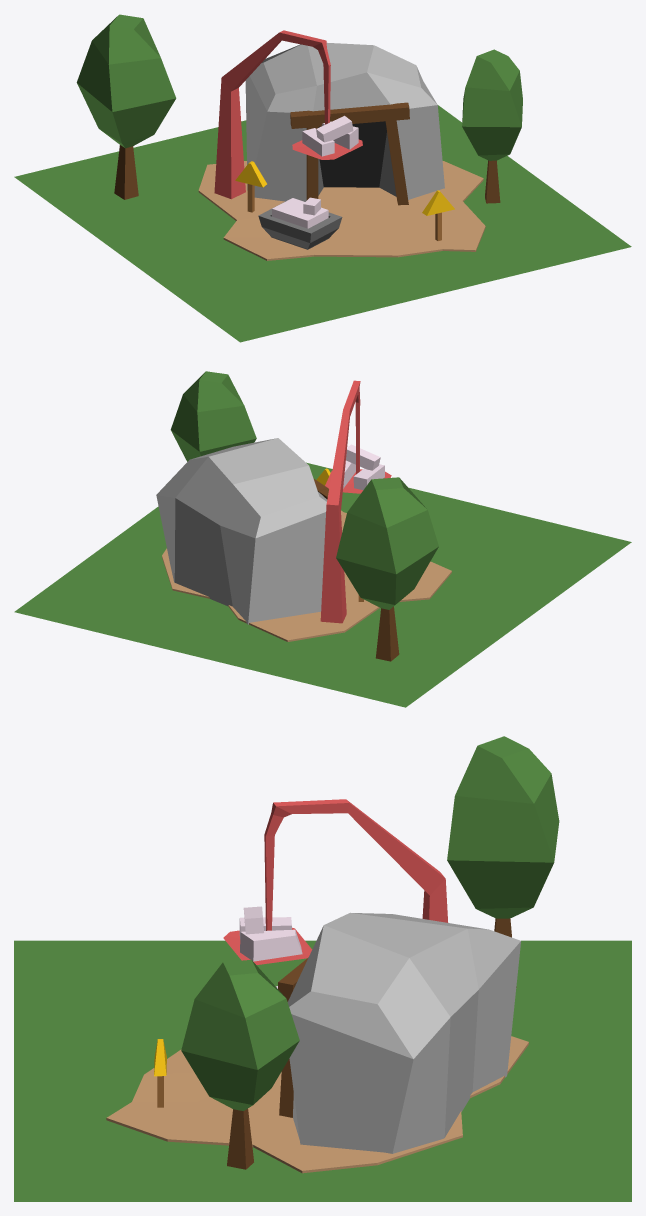
File: Quarry.fbx
3 views of the same model, one above another, from view 1: azimuth 30°, elevation 25°; view 2: azimuth 150°, elevation 25°; view 3: azimuth 270°, elevation 25° (orthographic). The views are drawn at different scales.
Visible parts, largest first — view 1: Body; view 2: Body; view 3: Body.
Part boxes in pixels (x1,y1,x2,y2): Body: [14, 14, 631, 342]; Body: [14, 371, 631, 707]; Body: [14, 736, 631, 1201].
Size of the model in its own units: 986 by 468 by 986.
